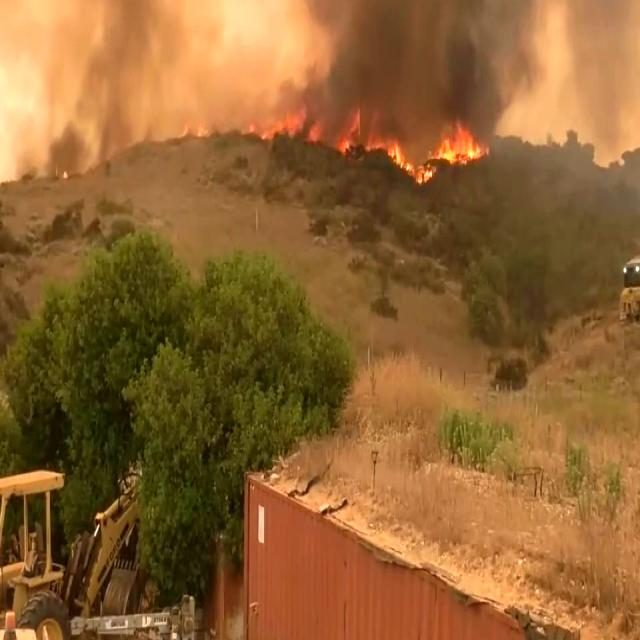fire: (448, 122, 488, 179)
smoke: (358, 0, 522, 78)
